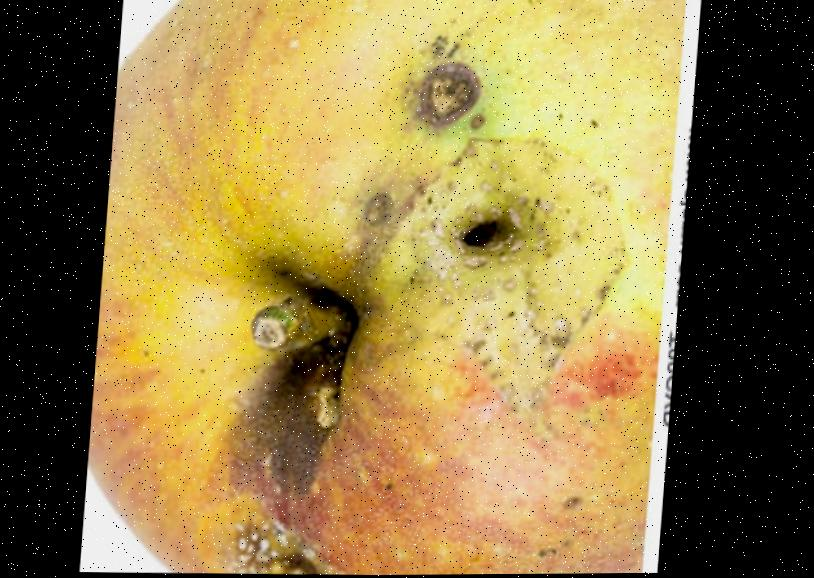SCAB: (163, 0, 664, 577)
